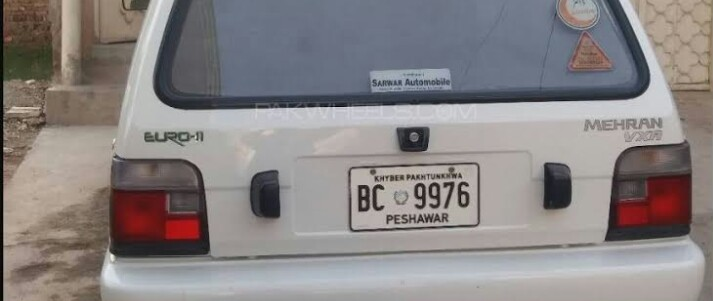license plate: (351, 164, 481, 230)
